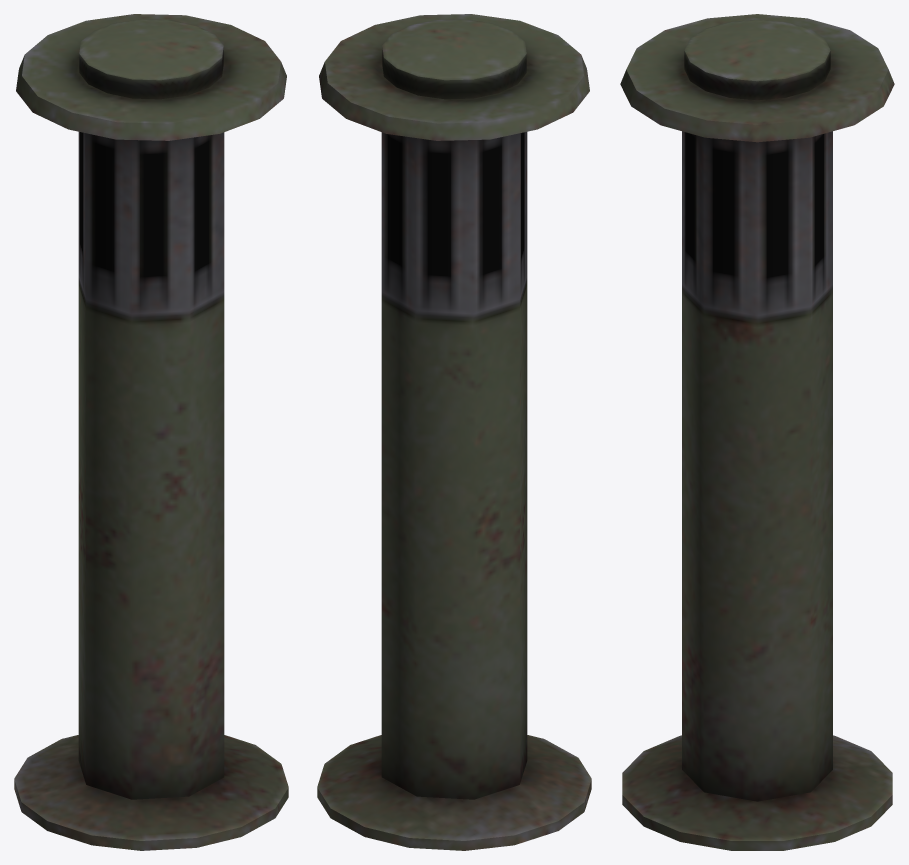
Rendered from Vent_12.fbx.
3 views of the same model, side by side, from view 1: azimuth 30°, elevation 25°; view 2: azimuth 150°, elevation 25°; view 3: azimuth 270°, elevation 25° (orthographic).
Parts seen in each view (by area): view 1: Vent_1; view 2: Vent_1; view 3: Vent_1.
Part boxes in pixels (x1,y1,x2,y2): Vent_1: (14, 14, 288, 850); Vent_1: (317, 14, 591, 850); Vent_1: (620, 14, 894, 850).
Size of the model in its own units: 32.45 by 97.88 by 32.45.
